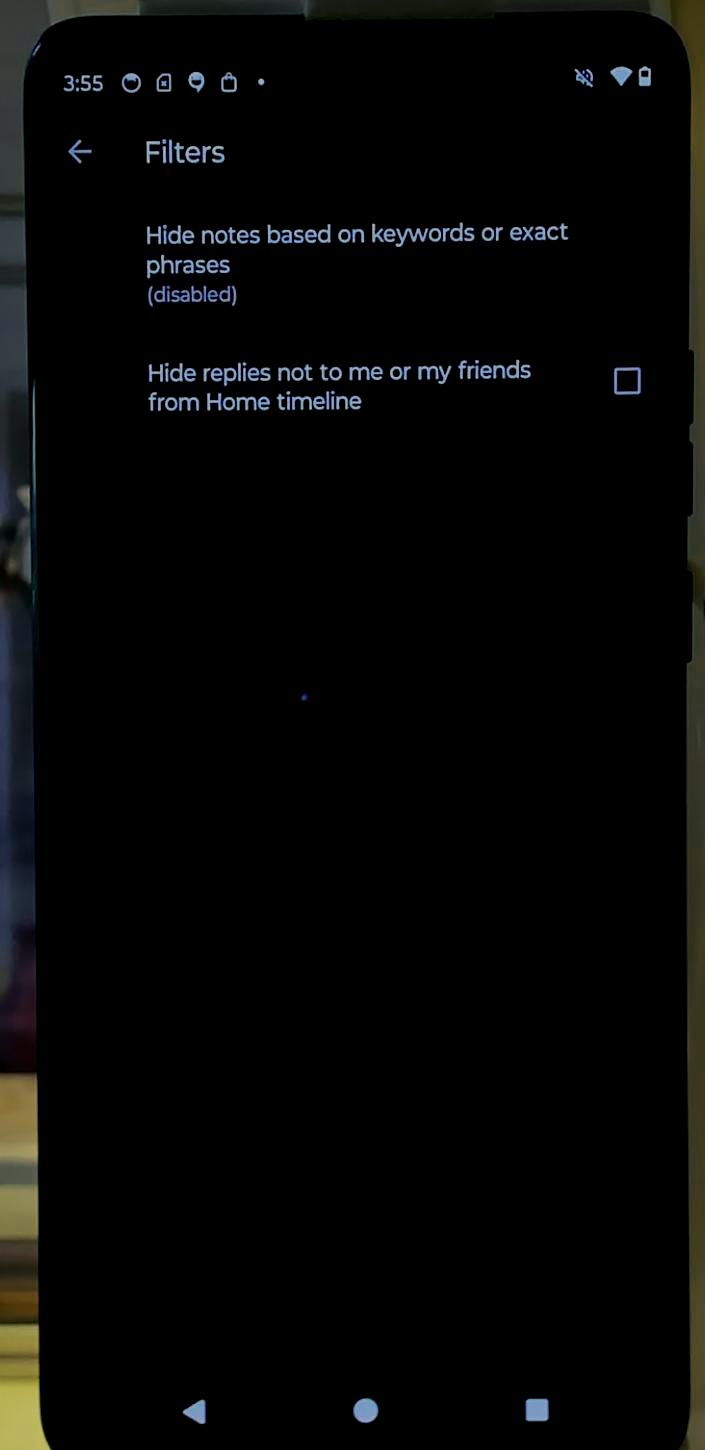Checkbox: (125, 333, 670, 434)
